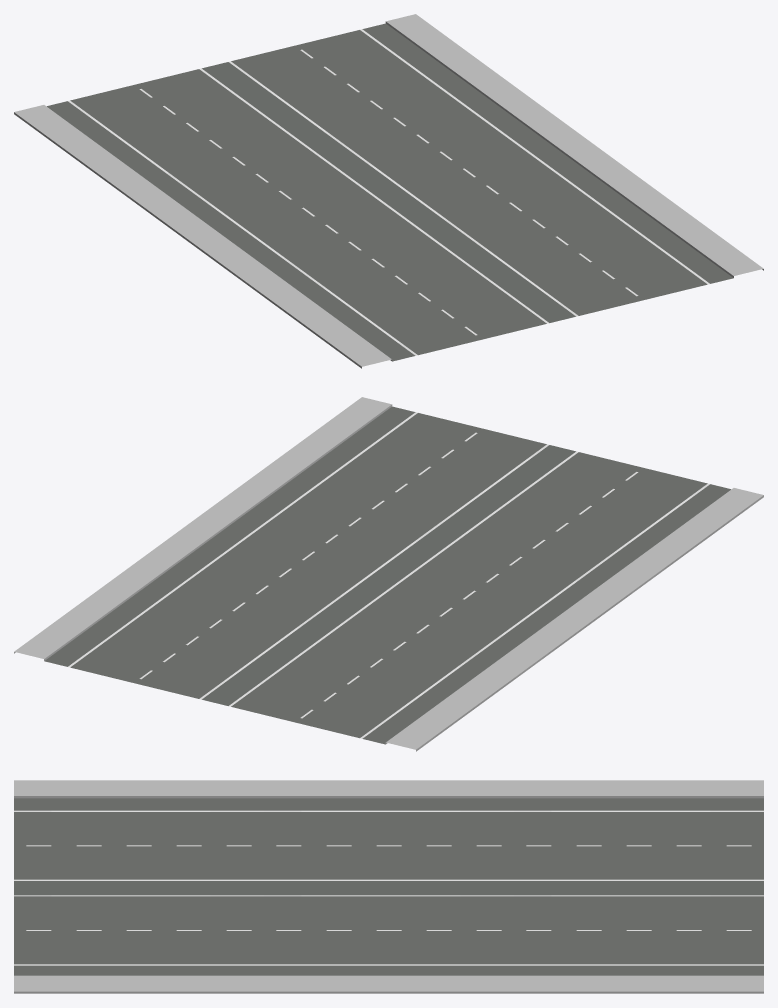
File: Double_Straight_XL.fbx
3 views of the same model, one above another, from view 1: azimuth 30°, elevation 25°; view 2: azimuth 150°, elevation 25°; view 3: azimuth 270°, elevation 25° (orthographic). The views are drawn at different scales.
Parts seen in each view (by area): view 1: Plane; view 2: Plane; view 3: Plane.
Boxes of the visible parts, x1,y1,x2,y2 form: Plane: [14, 14, 763, 368]; Plane: [14, 397, 763, 751]; Plane: [14, 780, 763, 993].
Bounding box in the file's own units: 30 × 0.15 × 45.
